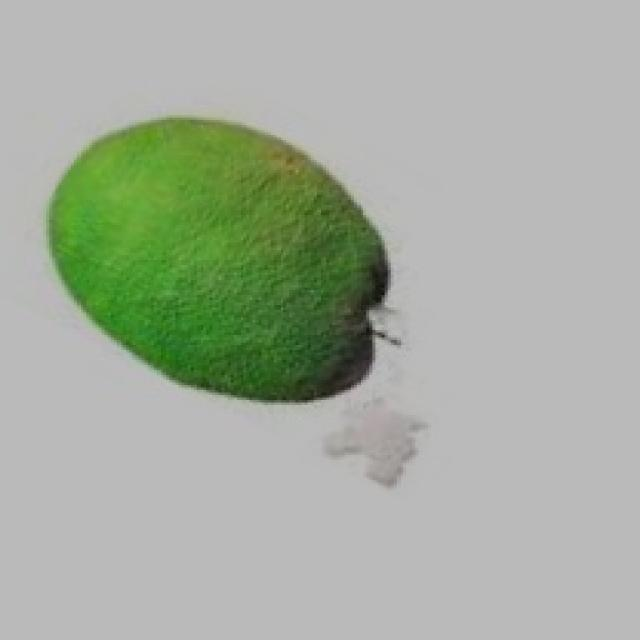Fruit: (9, 90, 418, 428)
